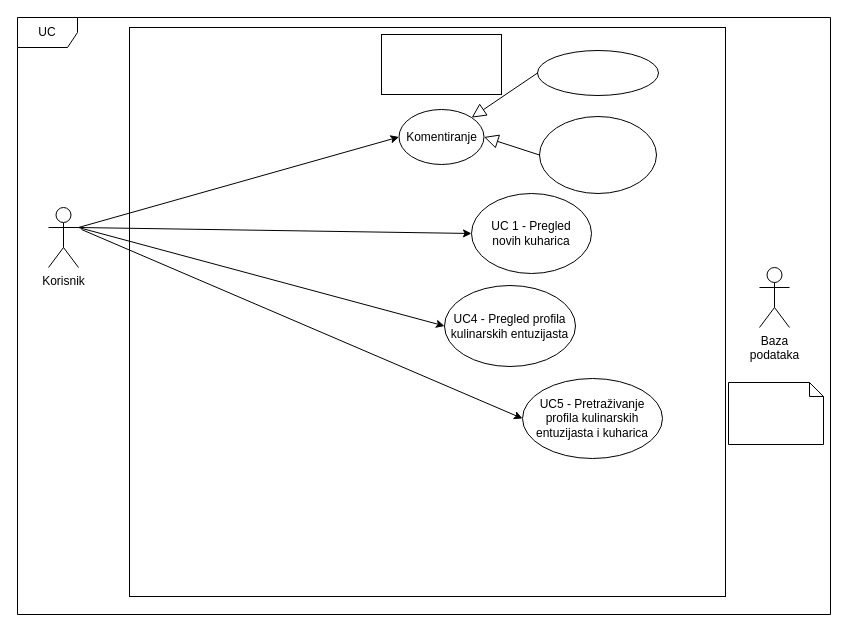
This 848x632 diagram has some shape labels left out. Each missing label, with the box of its shape:
Funkcionalnosti svih vrsta korisnika: (380, 34, 502, 94)
Svi obrazci uporabe komuniciraju s bazom podataka: (728, 382, 824, 444)
UC25 - Komentiranje: (536, 50, 658, 96)
UC6 - Anonimno komentiranje: (538, 116, 656, 194)
